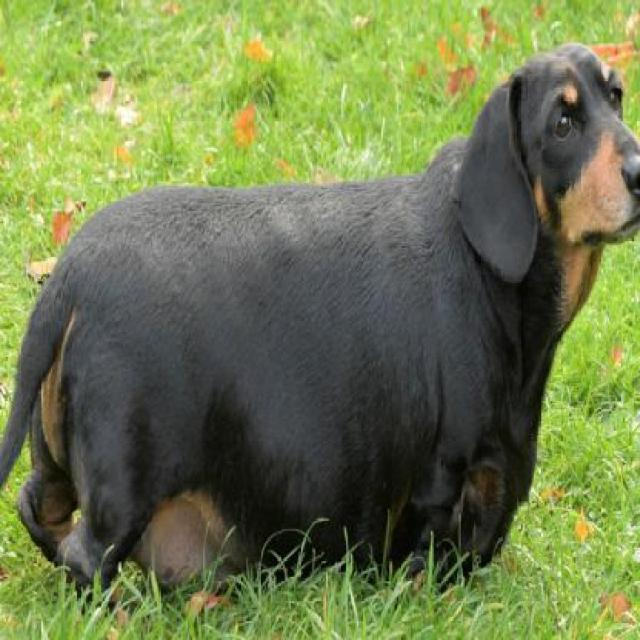Dog: (1, 38, 638, 620)
